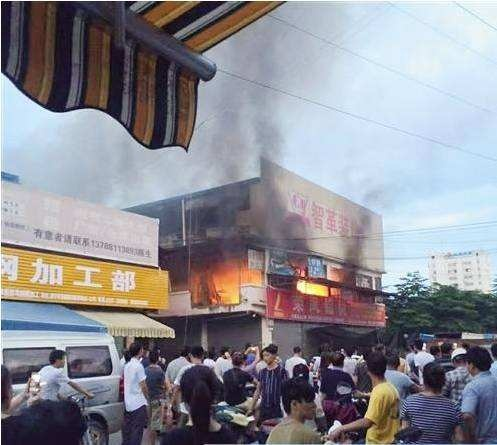fire: (187, 246, 271, 310), (296, 274, 341, 311)
